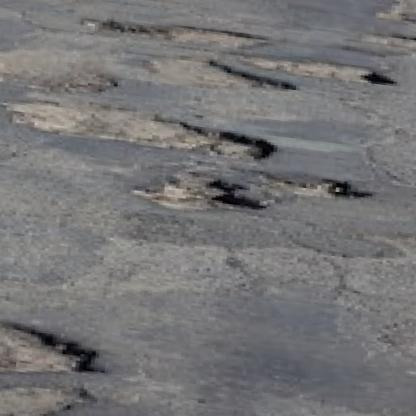pothole: (0, 93, 283, 164), (114, 45, 298, 101), (0, 24, 125, 98), (0, 305, 105, 392), (82, 9, 269, 56), (129, 162, 266, 219), (242, 49, 402, 89), (0, 372, 92, 416), (279, 173, 370, 207), (357, 29, 416, 64)
